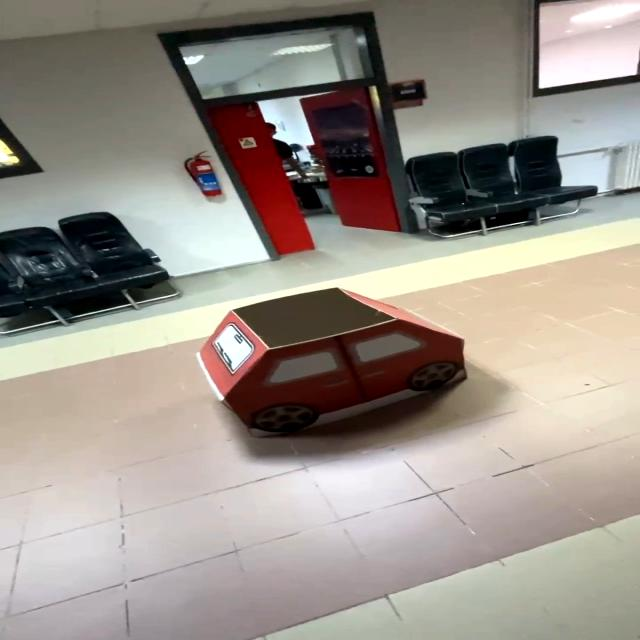red_car: (151, 278, 507, 447)
